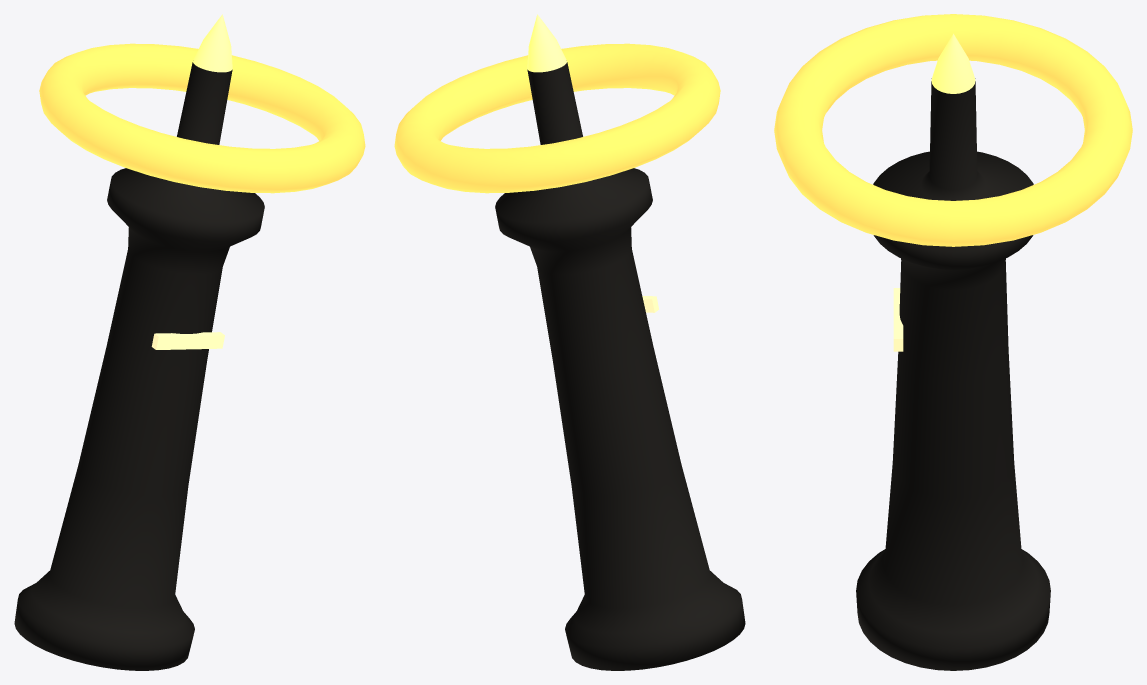
The model's file is warden.glb.
The picture shows the model from 3 angles, left to right: view 1: azimuth 30°, elevation 25°; view 2: azimuth 150°, elevation 25°; view 3: azimuth 270°, elevation 25°; orthographic projection. The views are drawn at different scales.
Parts seen in each view (by area): view 1: warden_post, warden_halo, warden_finial, warden_eye; view 2: warden_post, warden_halo, warden_finial; view 3: warden_post, warden_halo, warden_finial, warden_eye.
Boxes of the visible parts, left/top/right/bottom form: warden_post: left=14, top=62, right=264, bottom=670; warden_halo: left=39, top=43, right=365, bottom=193; warden_finial: left=192, top=14, right=232, bottom=72; warden_eye: left=151, top=332, right=224, bottom=349; warden_post: left=495, top=62, right=745, bottom=670; warden_halo: left=394, top=43, right=720, bottom=193; warden_finial: left=527, top=14, right=567, bottom=72; warden_post: left=856, top=78, right=1050, bottom=670; warden_halo: left=774, top=14, right=1132, bottom=246; warden_finial: left=931, top=33, right=975, bottom=93; warden_eye: left=893, top=288, right=903, bottom=351.
Size of the model in its own units: 1.4 by 2.58 by 1.27.
